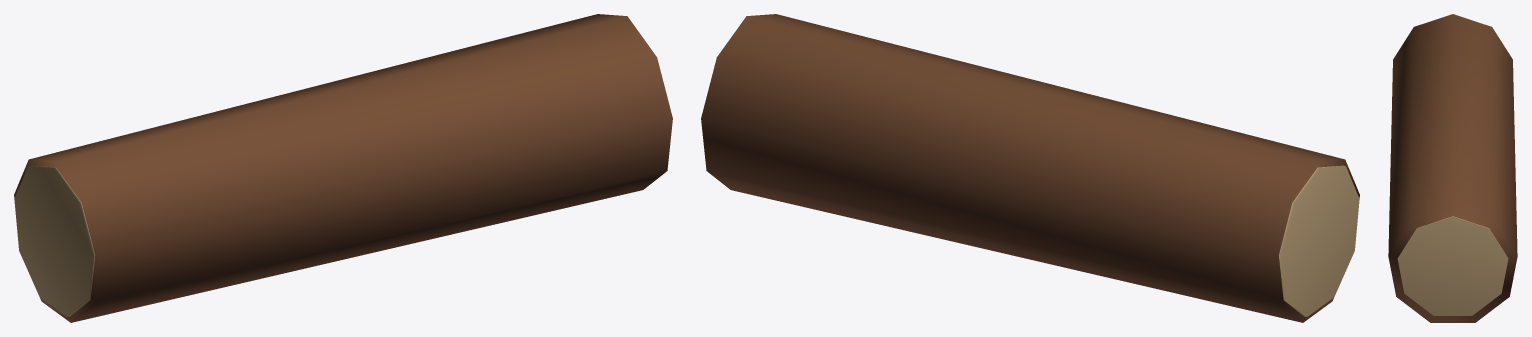
File: log.glb
3 views of the same model, side by side, from view 1: azimuth 30°, elevation 25°; view 2: azimuth 150°, elevation 25°; view 3: azimuth 270°, elevation 25° (orthographic). The views are drawn at different scales.
Visible parts, largest first — view 1: log; view 2: log; view 3: log.
Part boxes in pixels (<box>): log: <box>14,14,672,322</box>; log: <box>701,14,1359,322</box>; log: <box>1388,14,1517,322</box>.
Bounding box in the file's own units: 2.02 × 0.5431 × 0.5515.
